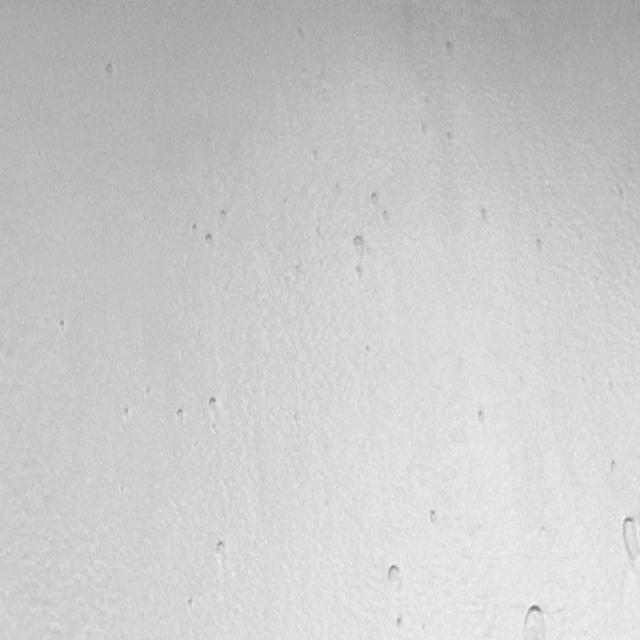pin holes: (615, 518, 639, 568), (522, 604, 550, 637), (385, 564, 406, 592), (214, 538, 231, 563), (350, 232, 367, 256), (104, 59, 120, 83), (474, 406, 490, 426), (442, 40, 458, 60), (478, 206, 492, 228), (352, 262, 366, 284), (369, 190, 384, 209), (418, 120, 432, 140), (174, 407, 188, 426), (429, 508, 442, 528), (308, 148, 322, 166), (207, 396, 220, 414), (380, 210, 393, 228), (219, 205, 234, 220), (203, 231, 216, 248), (534, 236, 546, 254), (396, 615, 408, 632), (609, 458, 620, 476), (56, 318, 68, 334), (122, 406, 134, 422), (189, 222, 201, 237), (444, 130, 456, 145), (187, 595, 197, 611), (363, 342, 376, 354), (142, 386, 152, 400)
